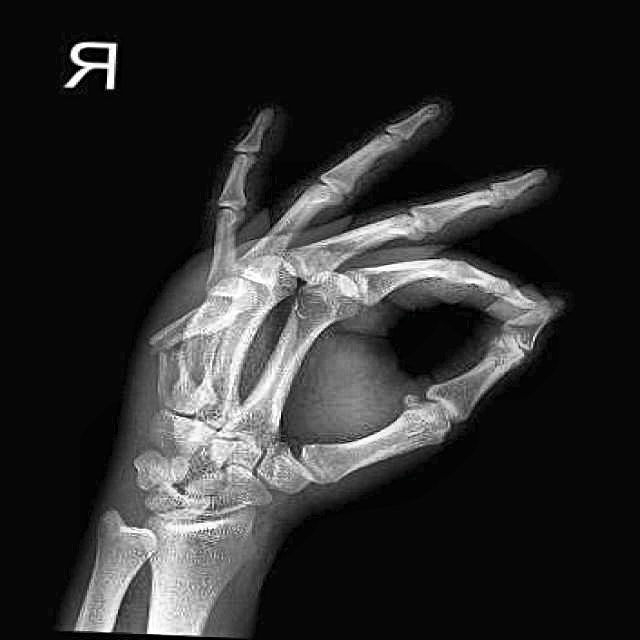Oblique: (135, 292, 250, 403)
